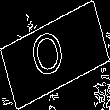O_S: (34, 24, 76, 86)
